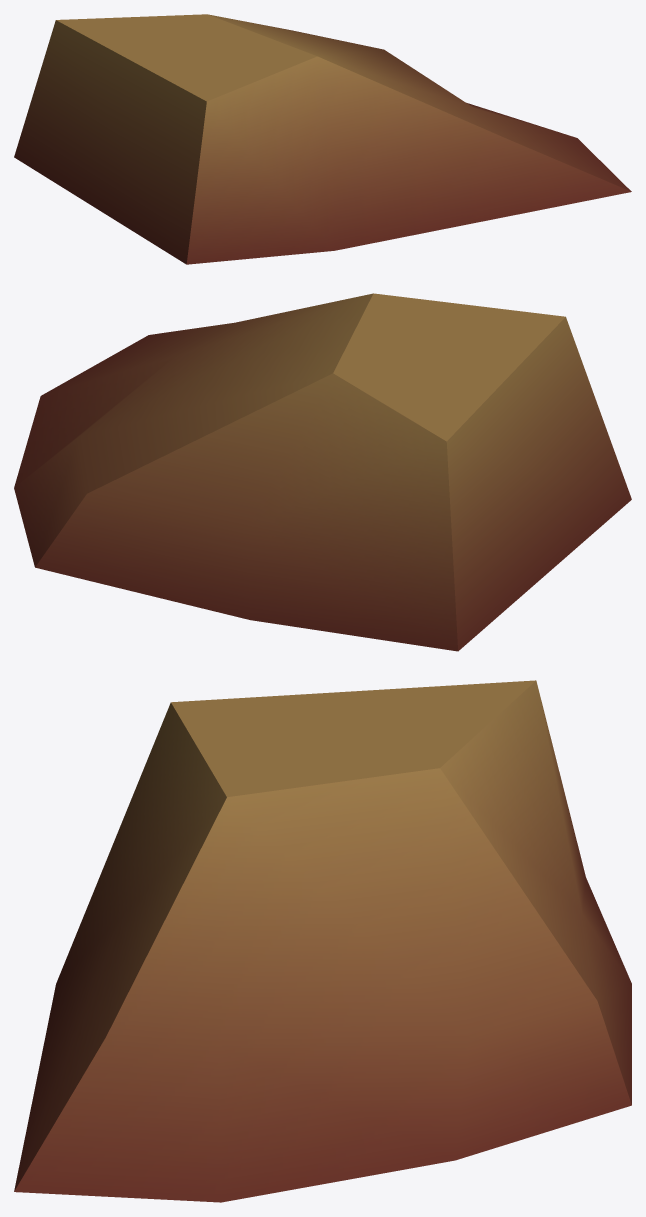
The model's file is Mountain_small.002.fbx.
The picture shows the model from 3 angles, top to bottom: view 1: azimuth 30°, elevation 25°; view 2: azimuth 150°, elevation 25°; view 3: azimuth 270°, elevation 25°; orthographic projection. The views are drawn at different scales.
Visible parts, largest first — view 1: Mountain_small.002; view 2: Mountain_small.002; view 3: Mountain_small.002.
Part boxes in pixels (x1,y1,x2,y2): Mountain_small.002: [14, 14, 631, 264]; Mountain_small.002: [14, 293, 631, 651]; Mountain_small.002: [14, 680, 631, 1202].
Bounding box in the file's own units: 35.09 × 10.86 × 28.2.
